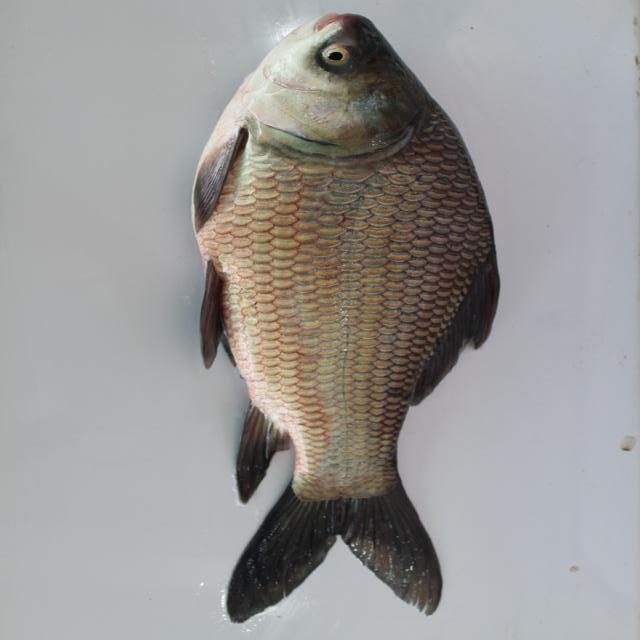Catla: (166, 11, 499, 624)
